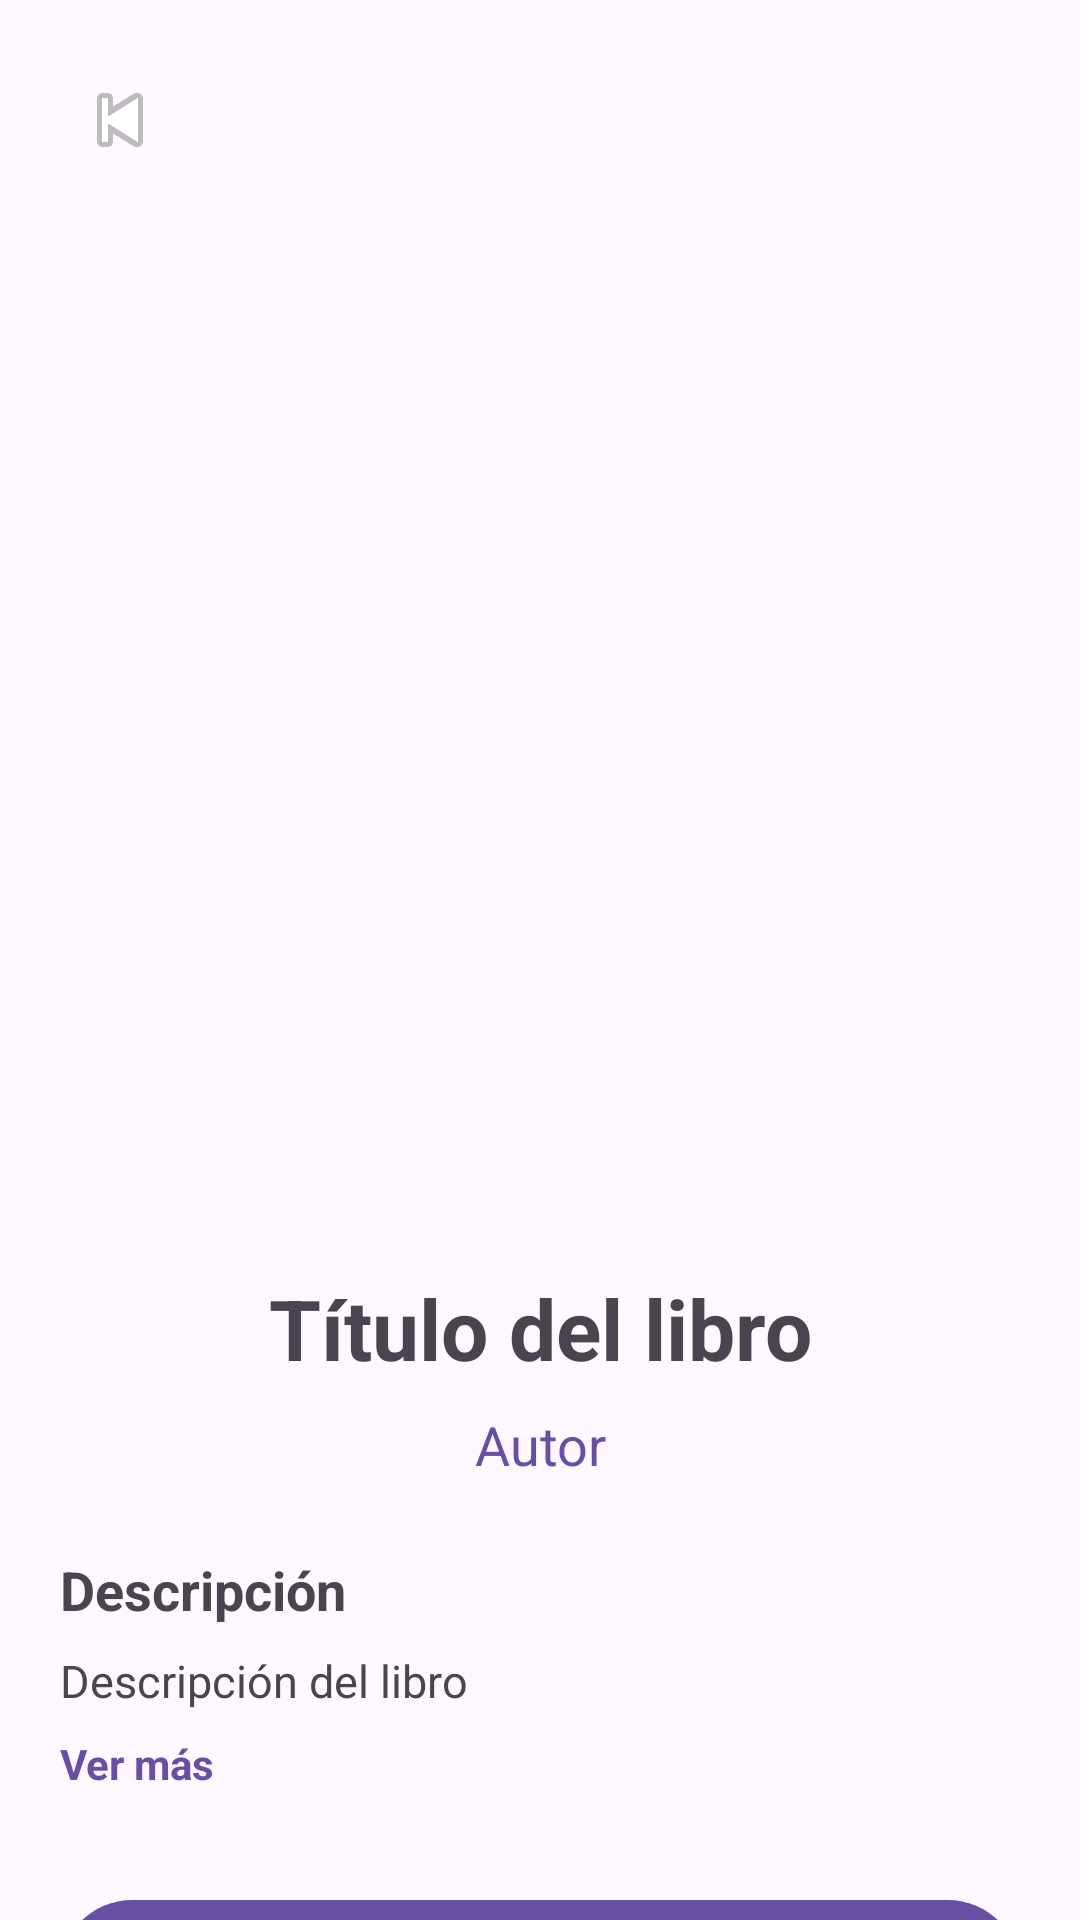

Icons on this 1080 x 1920 Android screen, each with the point to tap as (x,y):
previous: (120,120)
